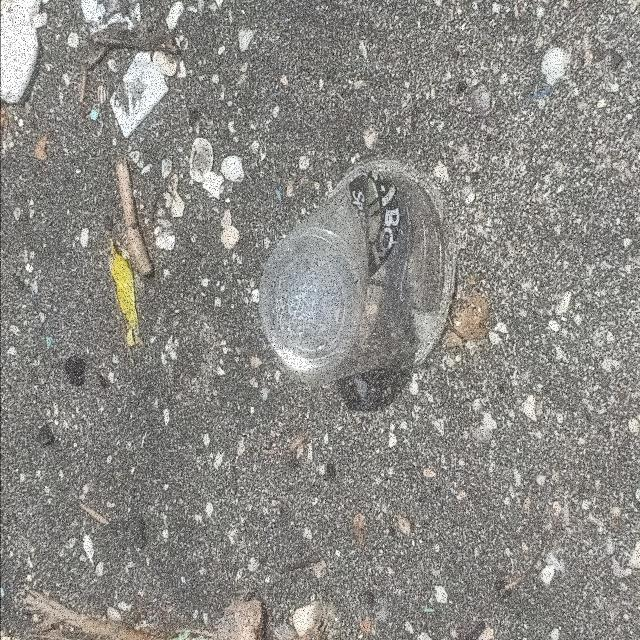plastic_waste: (258, 159, 458, 389)
